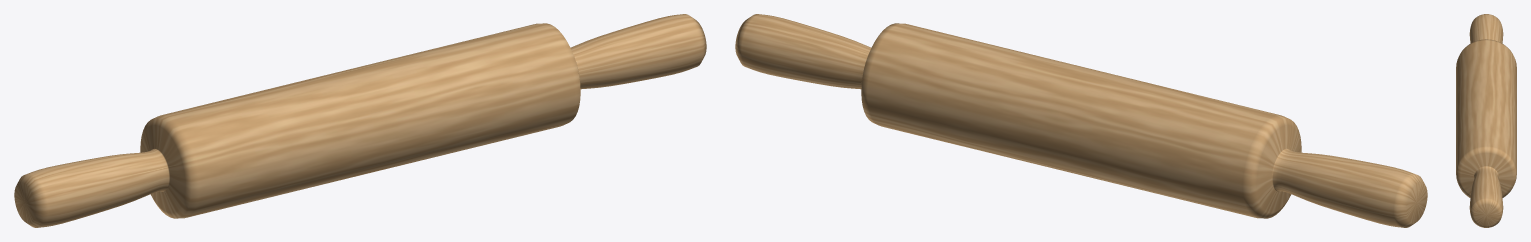
The picture shows the model from 3 angles, left to right: view 1: azimuth 30°, elevation 25°; view 2: azimuth 150°, elevation 25°; view 3: azimuth 270°, elevation 25°; orthographic projection. The views are drawn at different scales.
Parts seen in each view (by area): view 1: Rolling pin, wooden; view 2: Rolling pin, wooden; view 3: Rolling pin, wooden.
Part boxes in pixels (box(x1,y1,x2,y2)): Rolling pin, wooden: box(14, 14, 706, 227); Rolling pin, wooden: box(735, 14, 1427, 227); Rolling pin, wooden: box(1456, 14, 1516, 227).
Size of the model in its own units: 0.44 by 0.06 by 0.06.
1 material, 1 textured.
